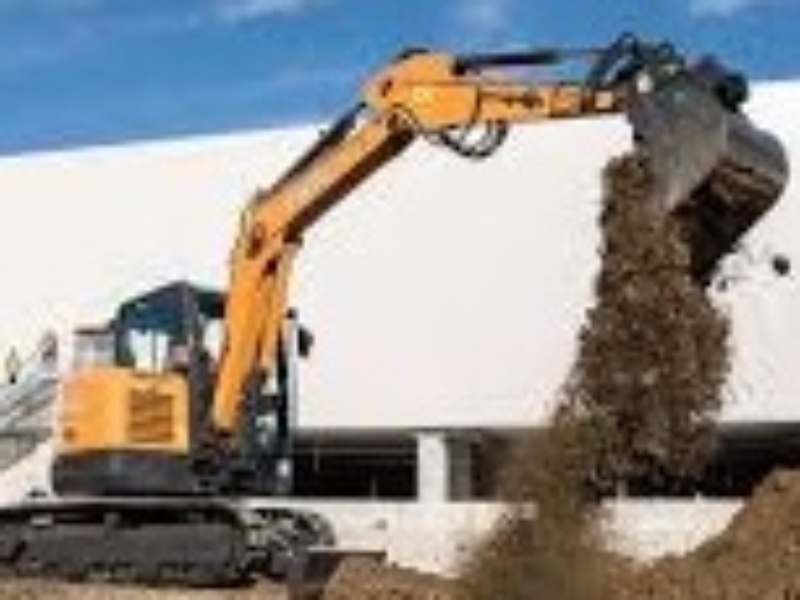wajueji: (1, 238, 378, 600)
